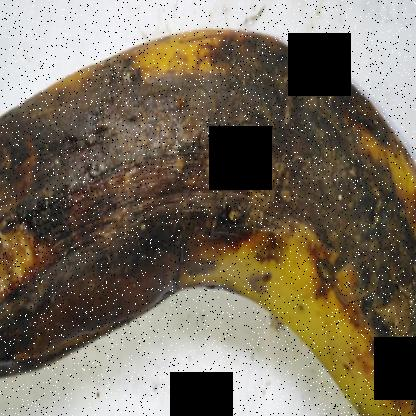rotten: (1, 22, 416, 415)
